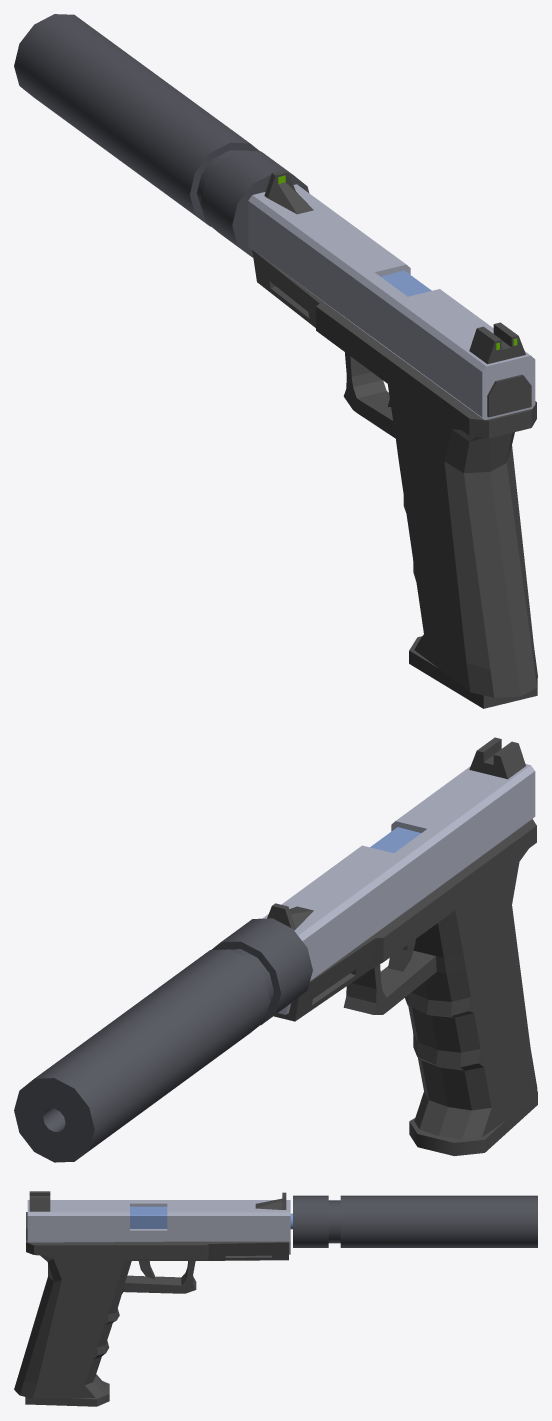
Rendered from SilencedPistol.fbx.
The picture shows the model from 3 angles, top to bottom: view 1: azimuth 30°, elevation 25°; view 2: azimuth 150°, elevation 25°; view 3: azimuth 270°, elevation 25°; orthographic projection. The views are drawn at different scales.
Parts seen in each view (by area): view 1: P Grip, P Slide, P Mag; view 2: P Grip, P Slide, P Mag; view 3: P Grip, P Slide, P Mag.
Boxes of the visible parts, <box> form: P Grip: <box>14,14,537,697</box>; P Slide: <box>248,170,535,419</box>; P Mag: <box>409,636,537,708</box>; P Grip: <box>14,819,537,1162</box>; P Slide: <box>262,737,535,1014</box>; P Mag: <box>409,1092,537,1156</box>; P Grip: <box>14,1195,537,1398</box>; P Slide: <box>26,1191,290,1254</box>; P Mag: <box>25,1381,109,1406</box>.
Size of the model in its own units: 8.77 by 37.44 by 87.75.
